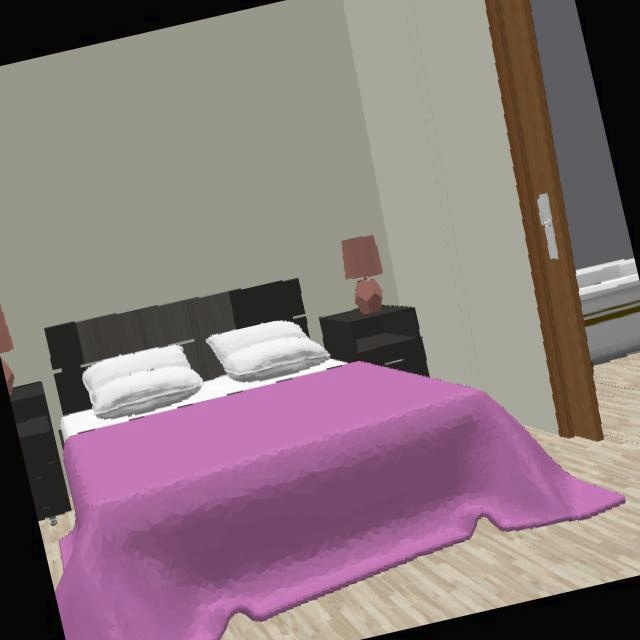bathtube: (576, 257, 640, 362)
bed: (54, 360, 625, 640)
lamp: (340, 235, 385, 315), (0, 303, 15, 396)
nighttable: (9, 381, 71, 522), (321, 305, 427, 373)
pillow: (81, 344, 204, 420), (207, 320, 331, 383)
